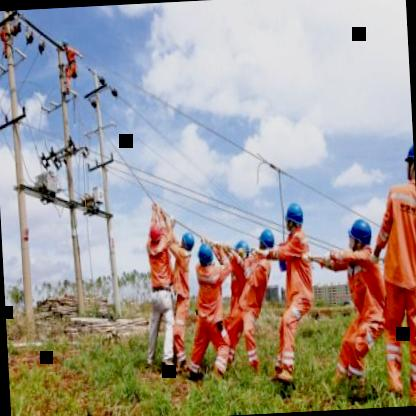helmet: (345, 214, 375, 252), (279, 198, 305, 236), (174, 226, 197, 260), (402, 133, 416, 187), (231, 236, 253, 270), (257, 226, 277, 260), (198, 239, 216, 268), (146, 219, 164, 248)
